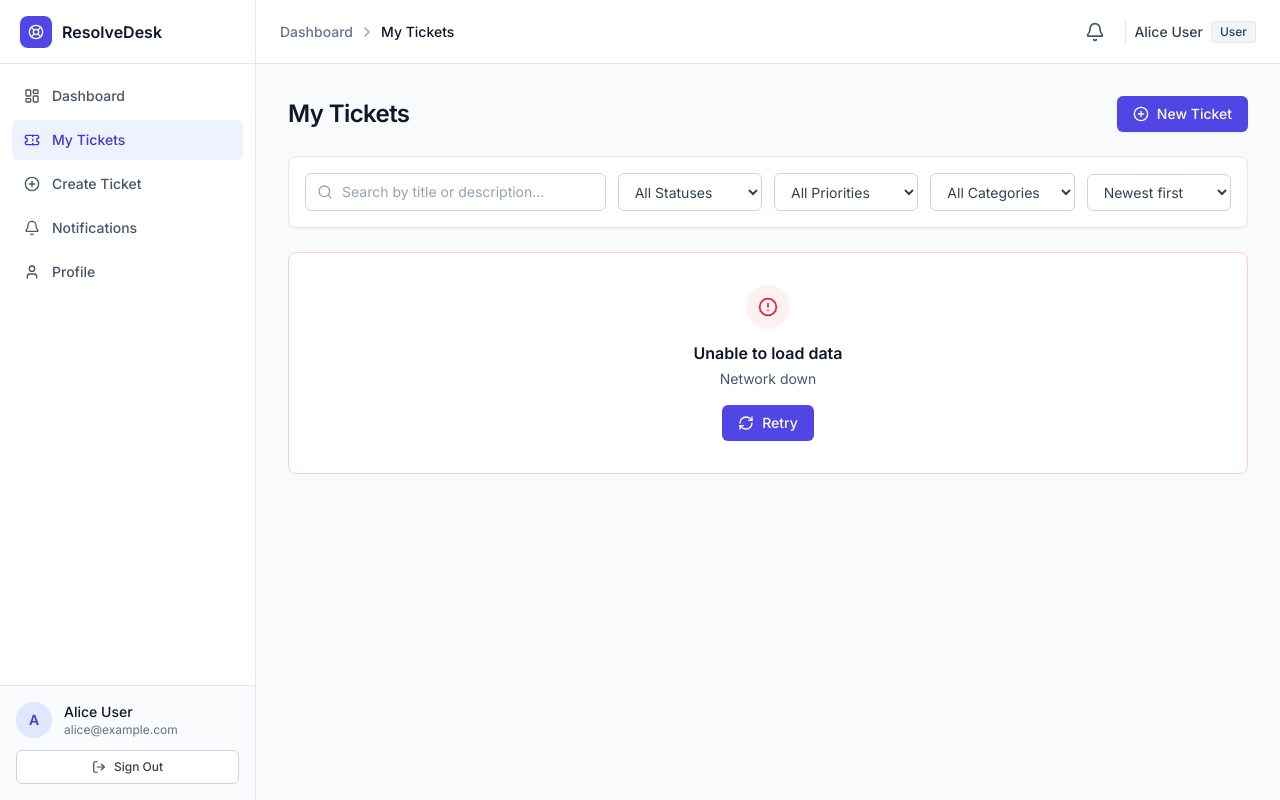
Test case: Frontend Authentication, Role Navigation & Workflows › displays loading, error, empty, and populated ticket list states
This screenshot has width=1280, height=800.
Expected: the heading "Unable to load data" is shown, [694,343,843,363]
Click the button "Retry" at (768, 423), box [722,405,814,441]
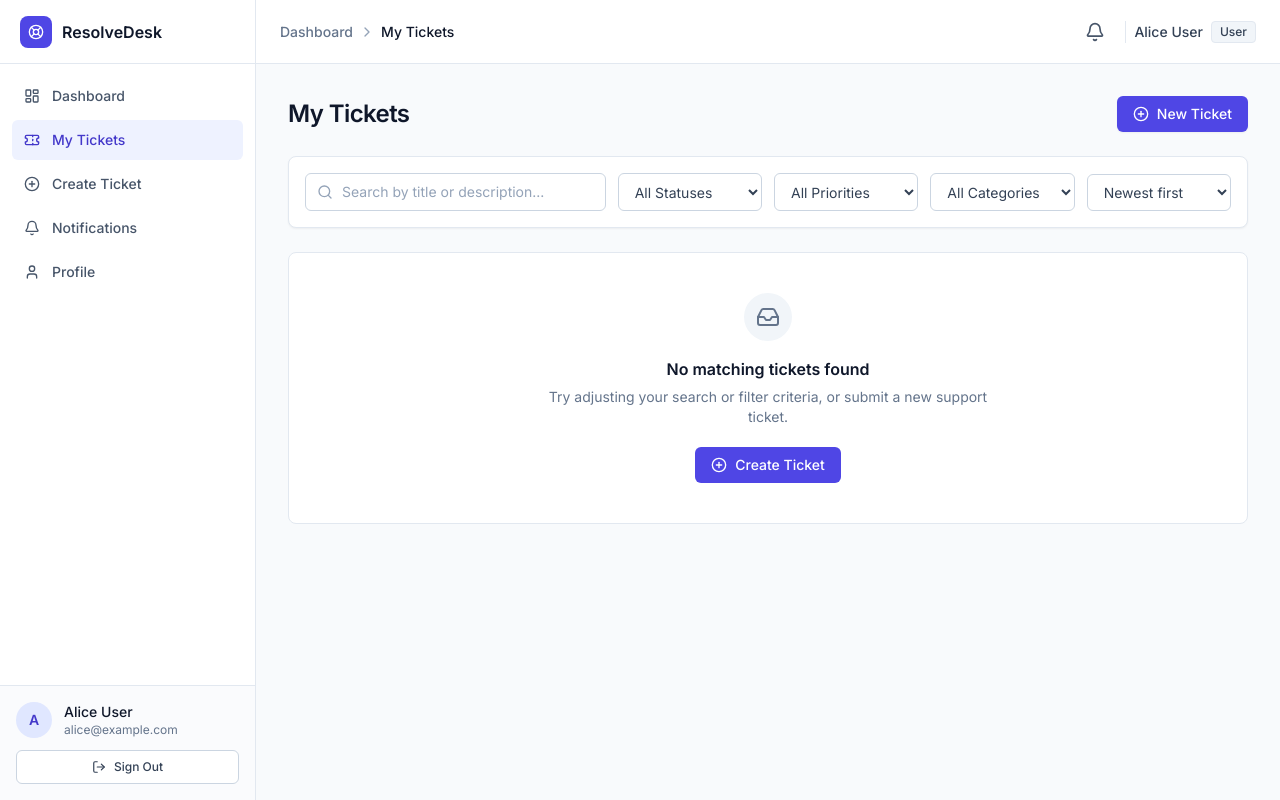
Now the heading "No matching tickets found" is shown, box [666,359,870,379]
Select "Open" in the dropdown named "Filter by status" at (690, 192), box [618,173,762,211]
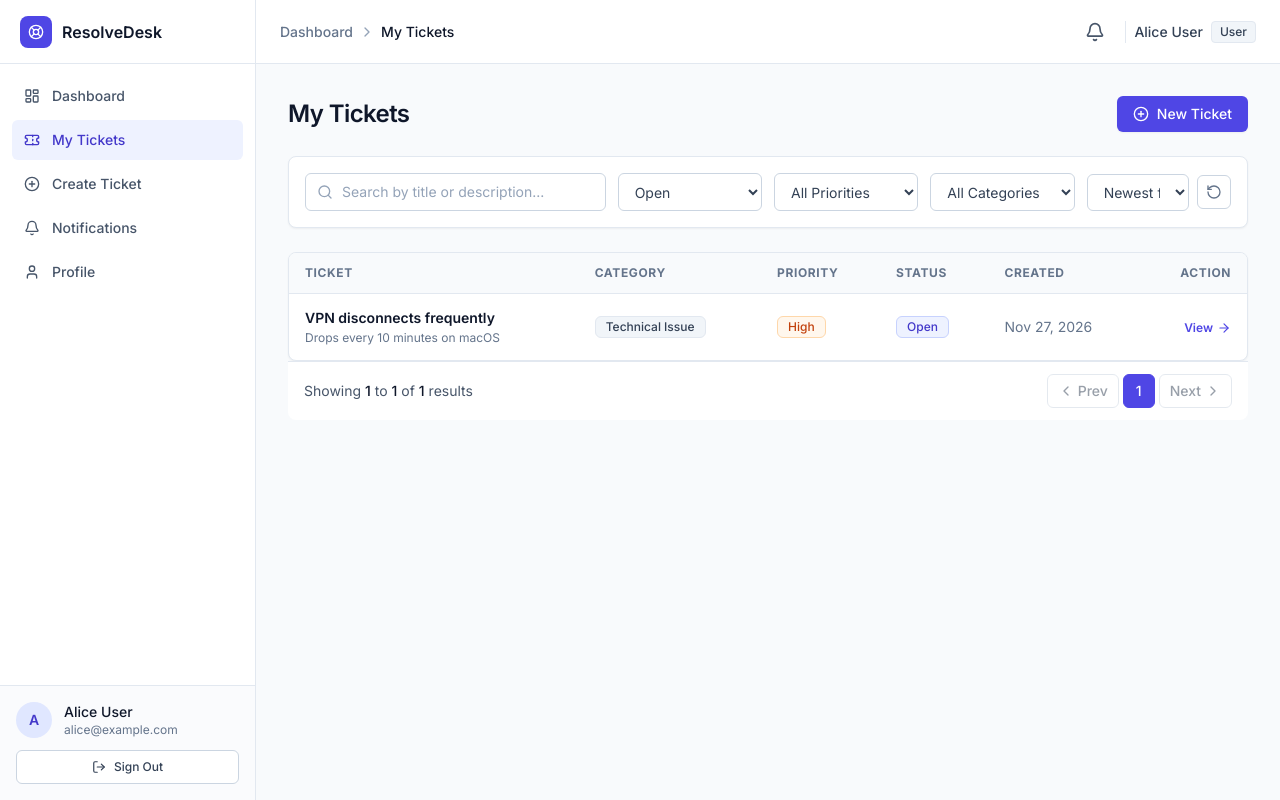
Now the number of links "VPN disconnects frequently" is 2
